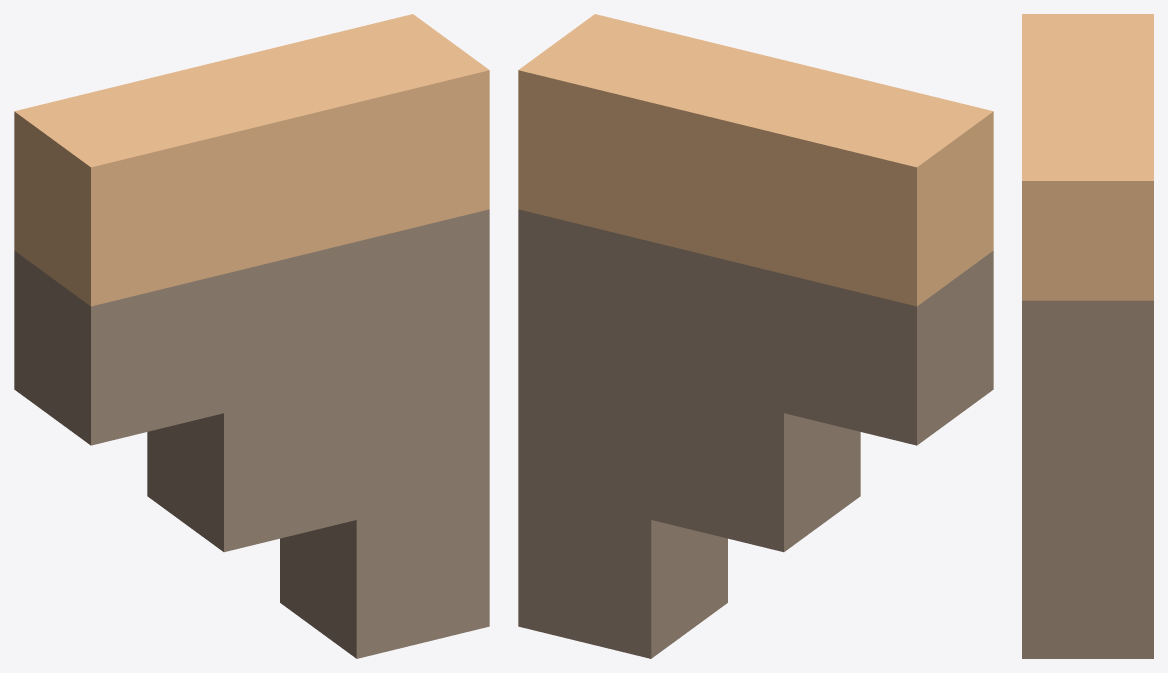
Rendered from Player_FSquirrel_RArm.obj.
The picture shows the model from 3 angles, left to right: view 1: azimuth 30°, elevation 25°; view 2: azimuth 150°, elevation 25°; view 3: azimuth 270°, elevation 25°; orthographic projection. The views are drawn at different scales.
Size of the model in its own units: 0.3 by 0.4 by 0.1.
1 material, 1 textured.
